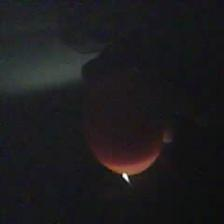fertile: (84, 78, 166, 174)
